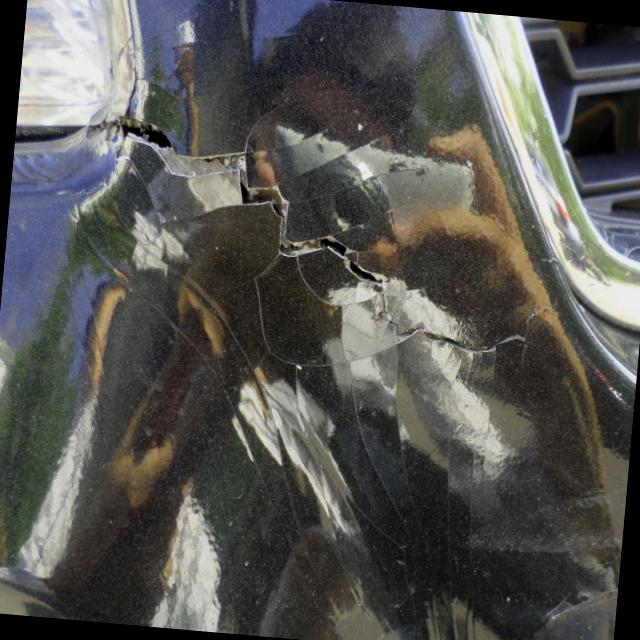Dechirure: (102, 112, 560, 352)
Rayure: (48, 229, 356, 561), (329, 318, 515, 567), (317, 557, 618, 640)
